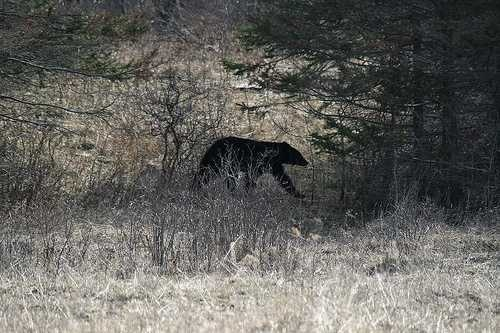bear: (188, 104, 316, 232)
